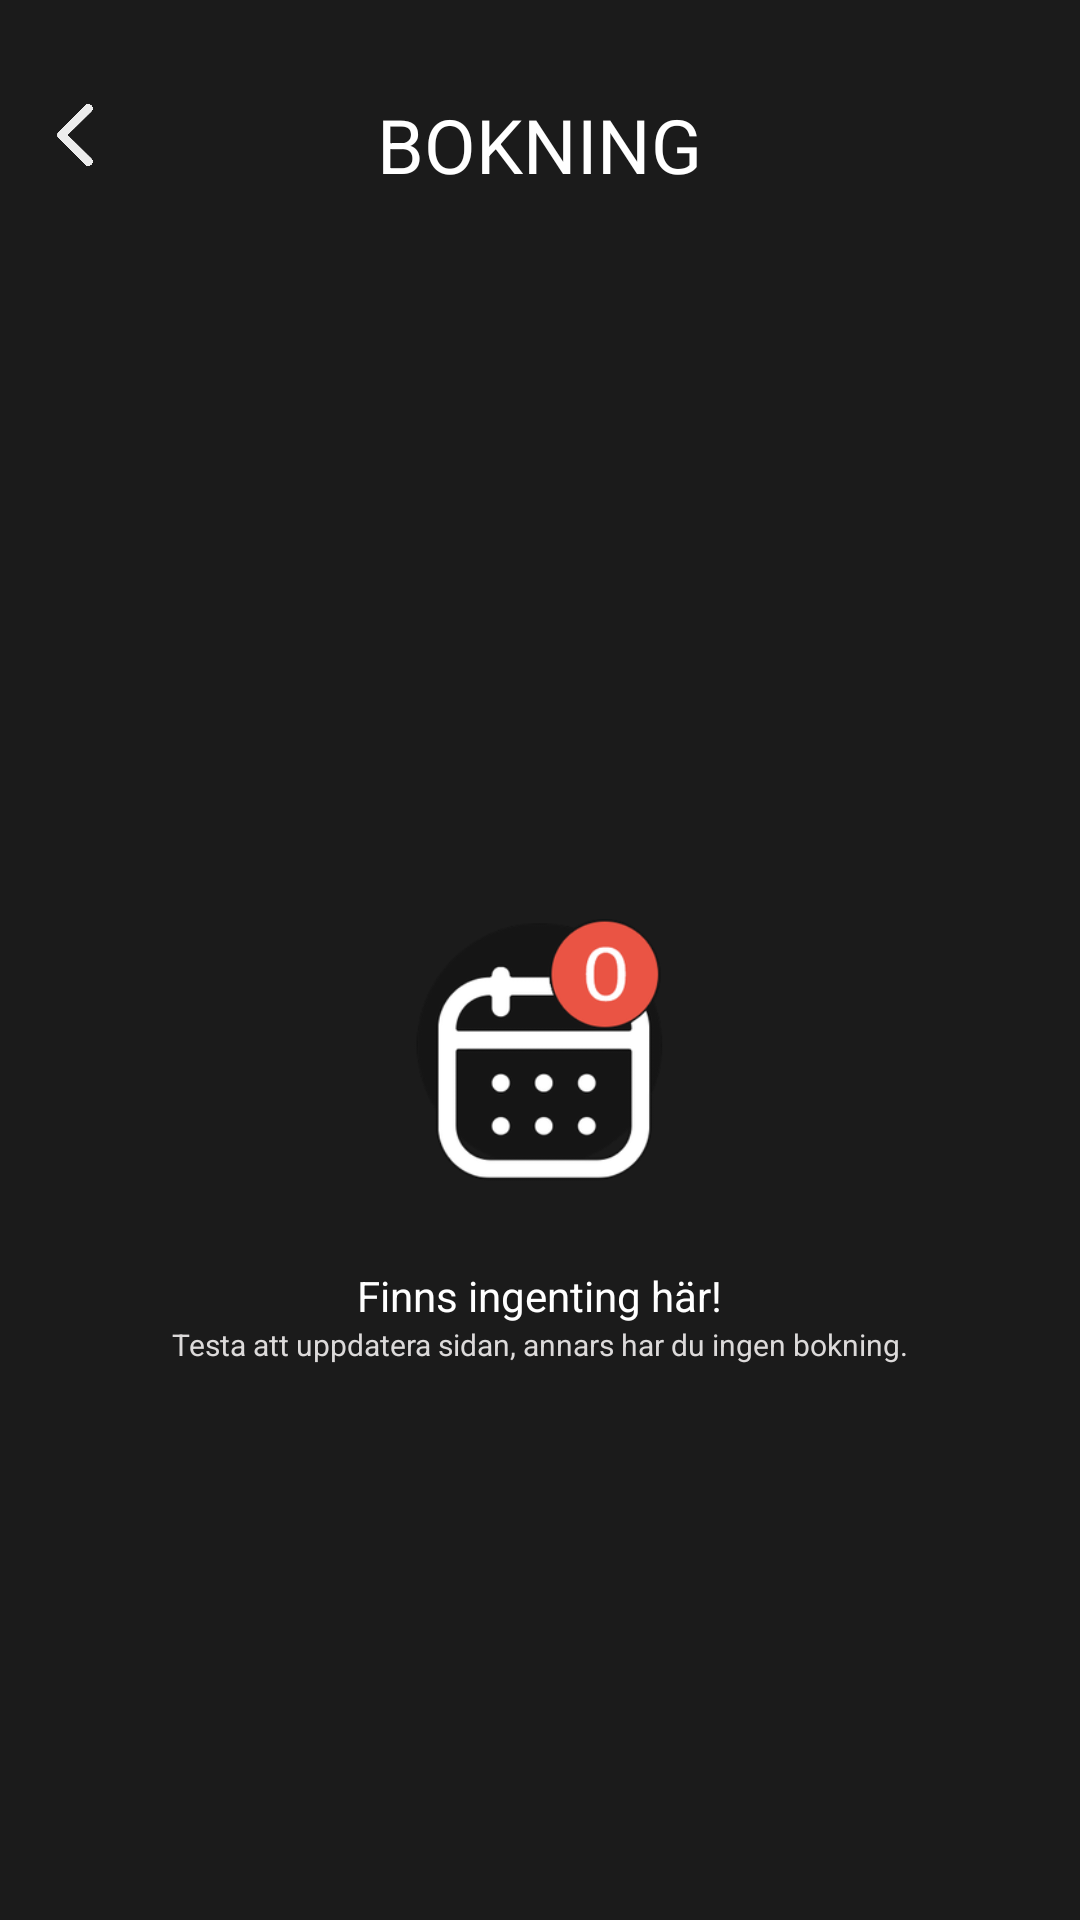

Named icons in this screenshot (1080px×1920px) and their bounding boxes, (x1, y1, x2, y2):
back arrow: (57, 104, 93, 166)
mybooking empty: (438, 921, 659, 1178)
